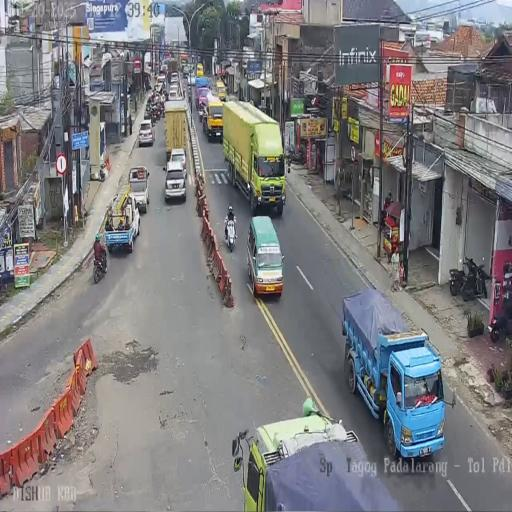3: (339, 290, 448, 460), (224, 98, 283, 216), (203, 96, 224, 142), (180, 52, 189, 70)
car: (248, 216, 284, 298), (128, 164, 150, 212), (167, 147, 187, 183), (139, 120, 154, 147), (216, 80, 227, 101), (156, 74, 166, 91), (168, 86, 179, 100), (187, 73, 196, 87), (196, 62, 204, 76), (162, 62, 168, 77), (171, 72, 178, 83)
truck: (488, 270, 512, 339), (459, 257, 489, 301), (93, 249, 107, 284), (224, 214, 236, 253), (286, 143, 305, 165), (152, 104, 162, 122), (145, 97, 152, 119), (160, 87, 168, 101)
